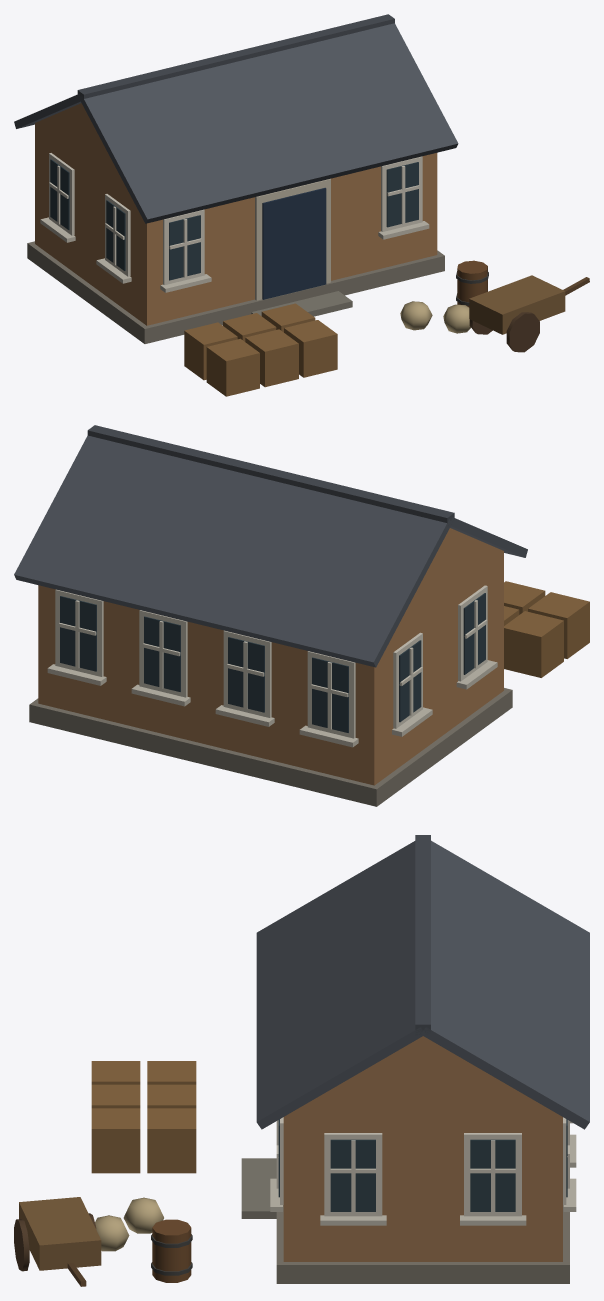
Rendered from procedural_trade_yard@5.glb.
3 renders of one model, top to bottom at view 1: azimuth 30°, elevation 25°; view 2: azimuth 150°, elevation 25°; view 3: azimuth 270°, elevation 25°, orthographic. The views are drawn at different scales.
Visible parts, largest first — view 1: part_0; view 2: part_0; view 3: part_0.
Boxes of the visible parts, bbox=[...] form: part_0: bbox=[14, 14, 589, 396]; part_0: bbox=[14, 425, 589, 806]; part_0: bbox=[14, 835, 589, 1286].
Bounding box in the file's own units: 7.68 × 4.15 × 8.25.
